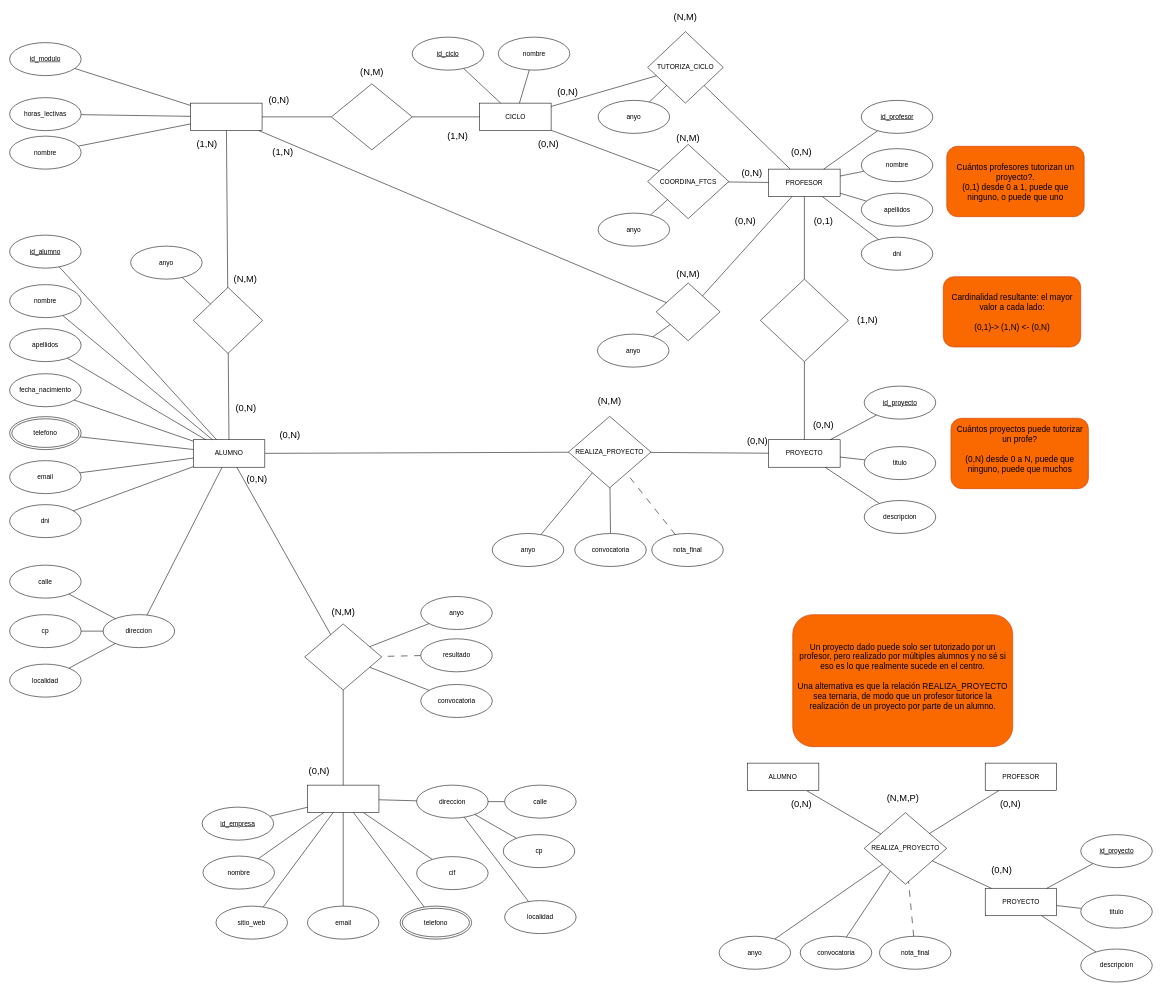
Image size: 1162x992. Some labels were removed from this diagram. Here are the shapes that lost their labels. From the top down, the box of each, then its label:
(190, 103, 262, 131): MODULO
(331, 83, 412, 150): PERTENECE
(193, 287, 263, 353): SE_MATRICULA
(656, 282, 720, 341): IMPARTE
(760, 279, 848, 362): TUTORIZA_PROYECTO
(304, 623, 382, 690): REALIZA_FCT
(307, 785, 379, 813): EMPRESA
